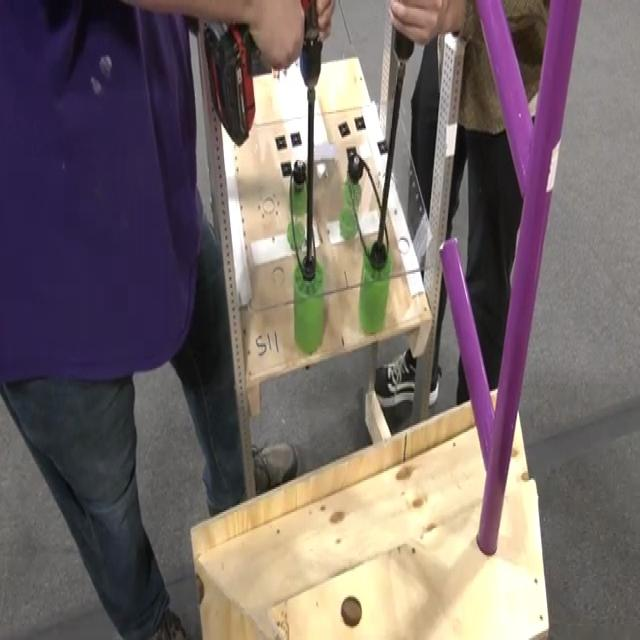Coral: (276, 65, 328, 183)
